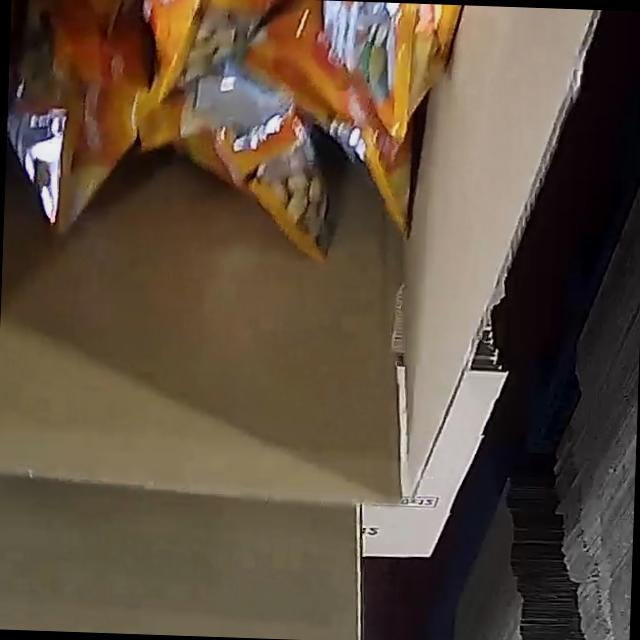cheese: (2, 0, 502, 273)
